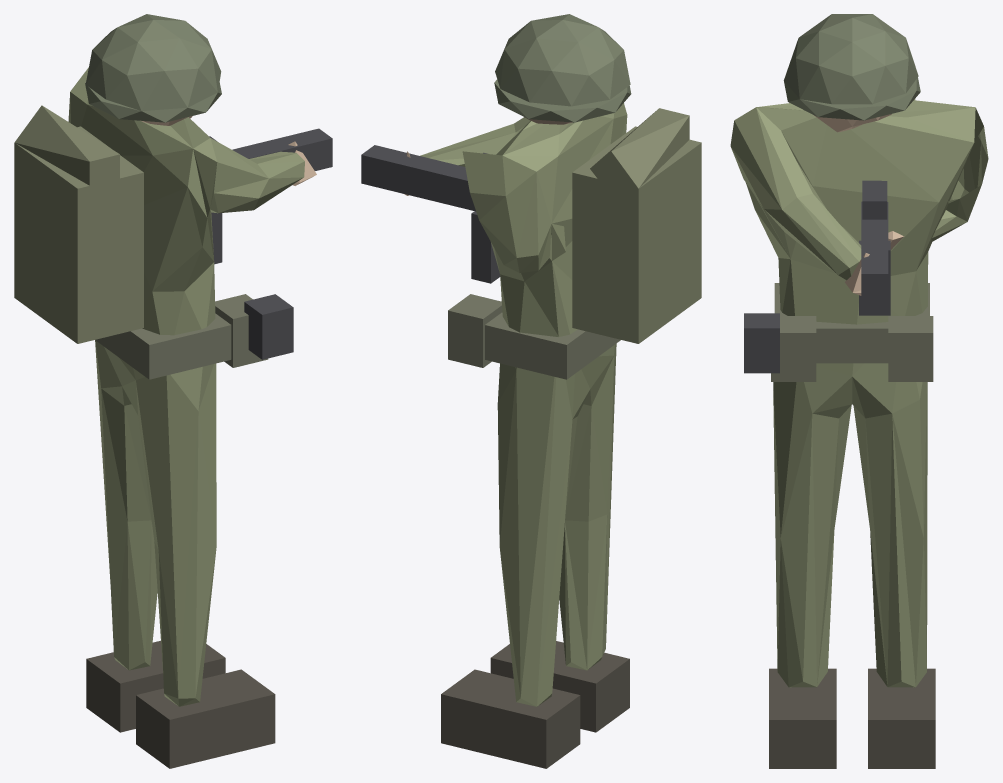
File: trooper_us.lod2.glb
3 views of the same model, side by side, from view 1: azimuth 30°, elevation 25°; view 2: azimuth 150°, elevation 25°; view 3: azimuth 270°, elevation 25° (orthographic).
Bounding box in the file's own units: 0.745 × 1.74 × 0.5723.
